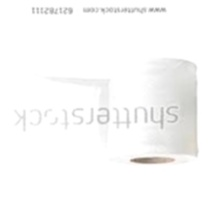tissue: (17, 51, 206, 173)
